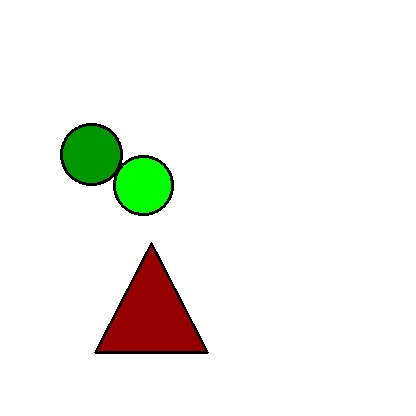circle: (91, 156, 196, 214), (58, 124, 125, 185)
triangle: (95, 243, 207, 352)
